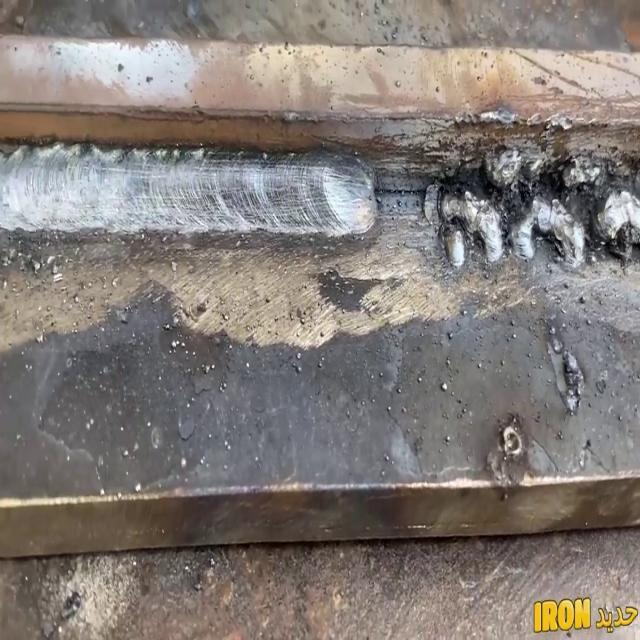Bad Welding: (425, 147, 640, 269)
Good Welding: (0, 144, 376, 236)
